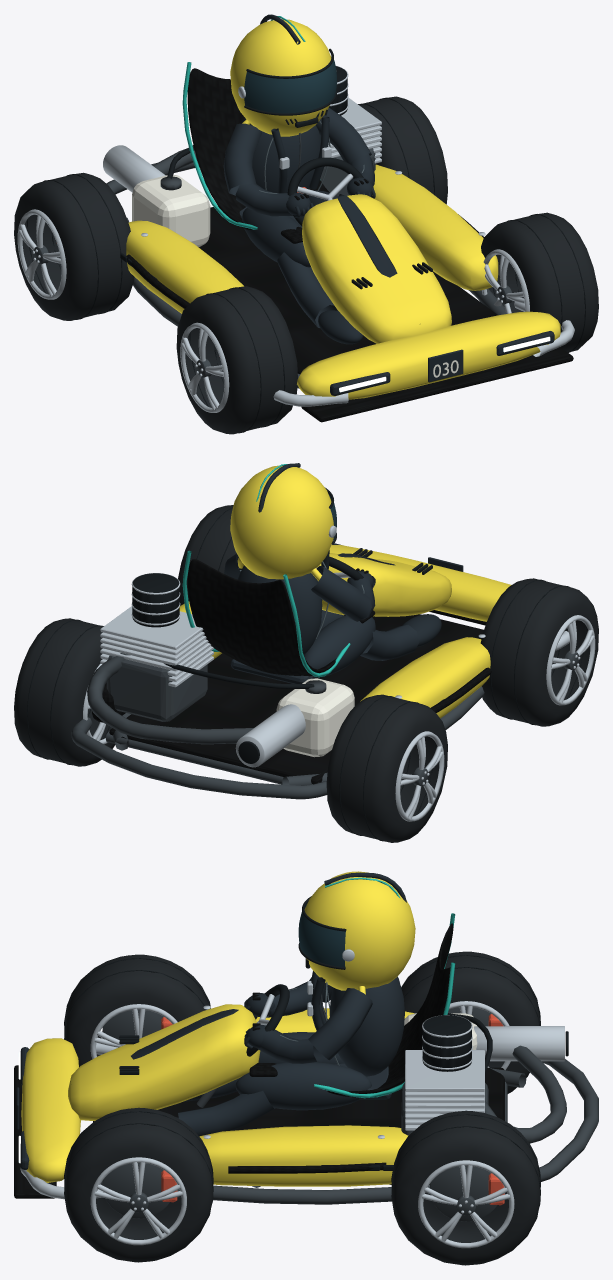
File: hero-kart.glb
3 renders of one model, top to bottom at view 1: azimuth 30°, elevation 25°; view 2: azimuth 150°, elevation 25°; view 3: azimuth 270°, elevation 25°, orthographic. The views are drawn at different scales.
Visible parts, largest first — view 1: mesh::V4_Enamel_Yellow, mesh::V4_Carbon_Composite, mesh::V4_Slick_Rubber, mesh::V4_Slick_Rubber.002, mesh::V4_Technical_Fabric, mesh::V4_Slick_Rubber.001, mesh::V4_Graphite_Enamel, mesh::V4_Machined_Alloy, mesh::V4_Slick_Rubber.003, mesh::V4_Ivory, mesh::V4_Smoked_Visor, mesh::V4_Tread_Grooves (+7 smaller); view 2: mesh::V4_Enamel_Yellow, mesh::V4_Carbon_Composite, mesh::V4_Blackened_Steel, mesh::V4_Slick_Rubber.002, mesh::V4_Slick_Rubber, mesh::V4_Slick_Rubber.003, mesh::V4_Technical_Fabric, mesh::V4_Machined_Alloy, mesh::V4_Tread_Grooves, mesh::V4_Ivory, mesh::V4_Slick_Rubber.001, mesh::V4_Machined_Alloy.001 (+6 smaller); view 3: mesh::V4_Enamel_Yellow, mesh::V4_Technical_Fabric, mesh::V4_Slick_Rubber.003, mesh::V4_Slick_Rubber.001, mesh::V4_Carbon_Composite, mesh::V4_Machined_Alloy, mesh::V4_Blackened_Steel, mesh::V4_Slick_Rubber, mesh::V4_Slick_Rubber.002, mesh::V4_Tread_Grooves, mesh::V4_Graphite_Enamel, mesh::V4_Machined_Alloy.002 (+11 smaller).
Part boxes in pixels (x1,y1,x2,y2): mesh::V4_Enamel_Yellow: (126,19,560,399); mesh::V4_Carbon_Composite: (126,68,573,422); mesh::V4_Slick_Rubber: (176,286,297,434); mesh::V4_Slick_Rubber.002: (14,172,134,320); mesh::V4_Technical_Fabric: (223,107,374,327); mesh::V4_Slick_Rubber.001: (481,212,598,352); mesh::V4_Graphite_Enamel: (260,14,554,395); mesh::V4_Machined_Alloy: (103,66,574,406); mesh::V4_Slick_Rubber.003: (358,96,447,204); mesh::V4_Ivory: (132,175,458,377); mesh::V4_Smoked_Visor: (244,59,336,113); mesh::V4_Tread_Grooves: (120,48,432,289); mesh::V4_Enamel_Yellow: (179,465,511,718); mesh::V4_Carbon_Composite: (92,559,491,784); mesh::V4_Blackened_Steel: (71,653,484,799); mesh::V4_Slick_Rubber.002: (326,694,447,842); mesh::V4_Slick_Rubber: (480,578,598,726); mesh::V4_Slick_Rubber.003: (14,618,114,766); mesh::V4_Technical_Fabric: (224,553,419,683); mesh::V4_Machined_Alloy: (100,525,569,767); mesh::V4_Tread_Grooves: (132,487,444,763); mesh::V4_Ivory: (276,678,354,757); mesh::V4_Slick_Rubber.001: (178,505,240,605); mesh::V4_Machined_Alloy.001: (546,615,595,705); mesh::V4_Enamel_Yellow: (21,871,415,1186); mesh::V4_Technical_Fabric: (178,976,404,1136); mesh::V4_Slick_Rubber.003: (391,1110,540,1265); mesh::V4_Slick_Rubber.001: (64,1107,213,1262); mesh::V4_Carbon_Composite: (14,923,504,1198); mesh::V4_Machined_Alloy: (20,949,564,1199); mesh::V4_Blackened_Steel: (100,994,598,1204); mesh::V4_Slick_Rubber: (64,954,210,1066); mesh::V4_Slick_Rubber.002: (401,951,540,1093); mesh::V4_Tread_Grooves: (119,896,568,1170); mesh::V4_Graphite_Enamel: (16,872,406,1169); mesh::V4_Machined_Alloy.002: (90,1157,186,1245).
Bounding box in the file's own units: 2 × 1.42 × 2.48.
14 materials, 1 textured.
